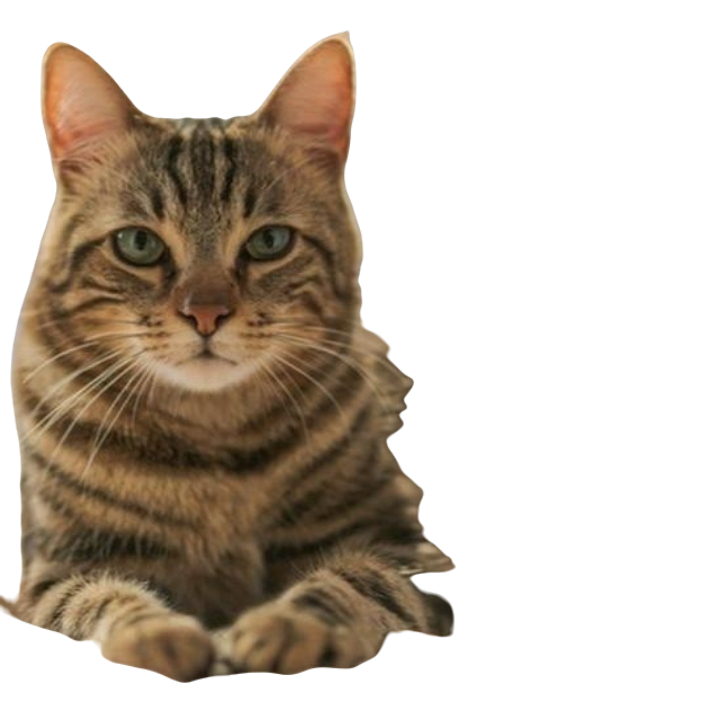Cat: (3, 22, 467, 701)
